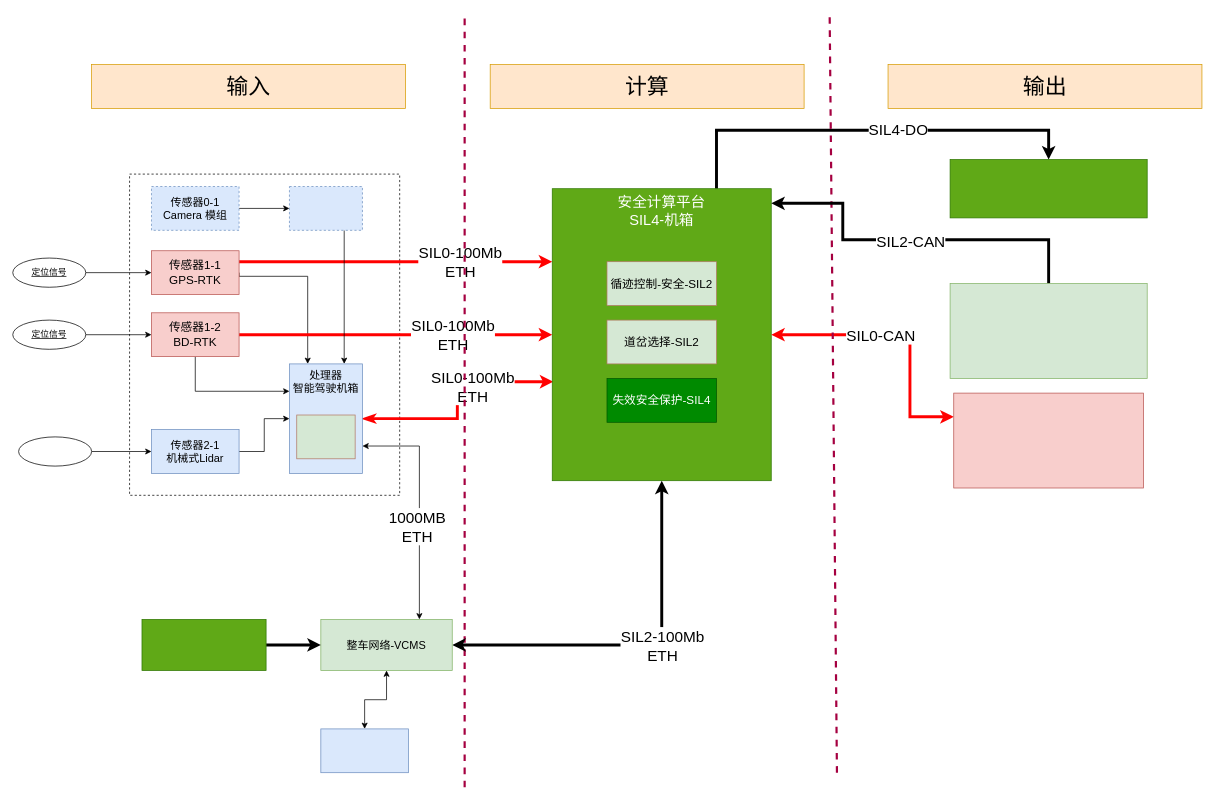
Some shapes in this 1215 by 802 pixel diagram are drawn without their labels. The centre of each missing label's shape, as x and y in pixels:
HMI: (x=364, y=750)
信号系统: (x=203, y=645)
处理器 Orin: (x=325, y=208)
循迹控制-性能-SIL0: (x=325, y=436)
执行器1 安全制动系统: (x=1048, y=188)
执行器2 无轨导向-第一轴: (x=1048, y=331)
点云数据: (x=55, y=451)
线控转向机 要求SIL1+人工: (x=1048, y=440)
